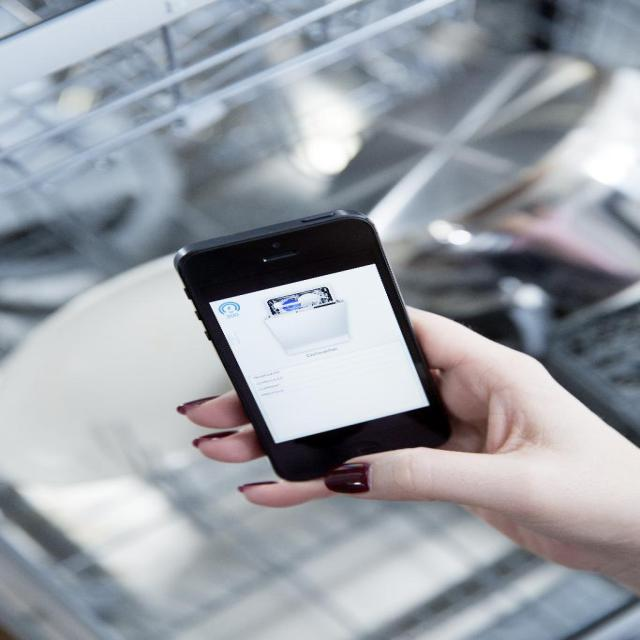Mobile-phone: (173, 207, 457, 485)
